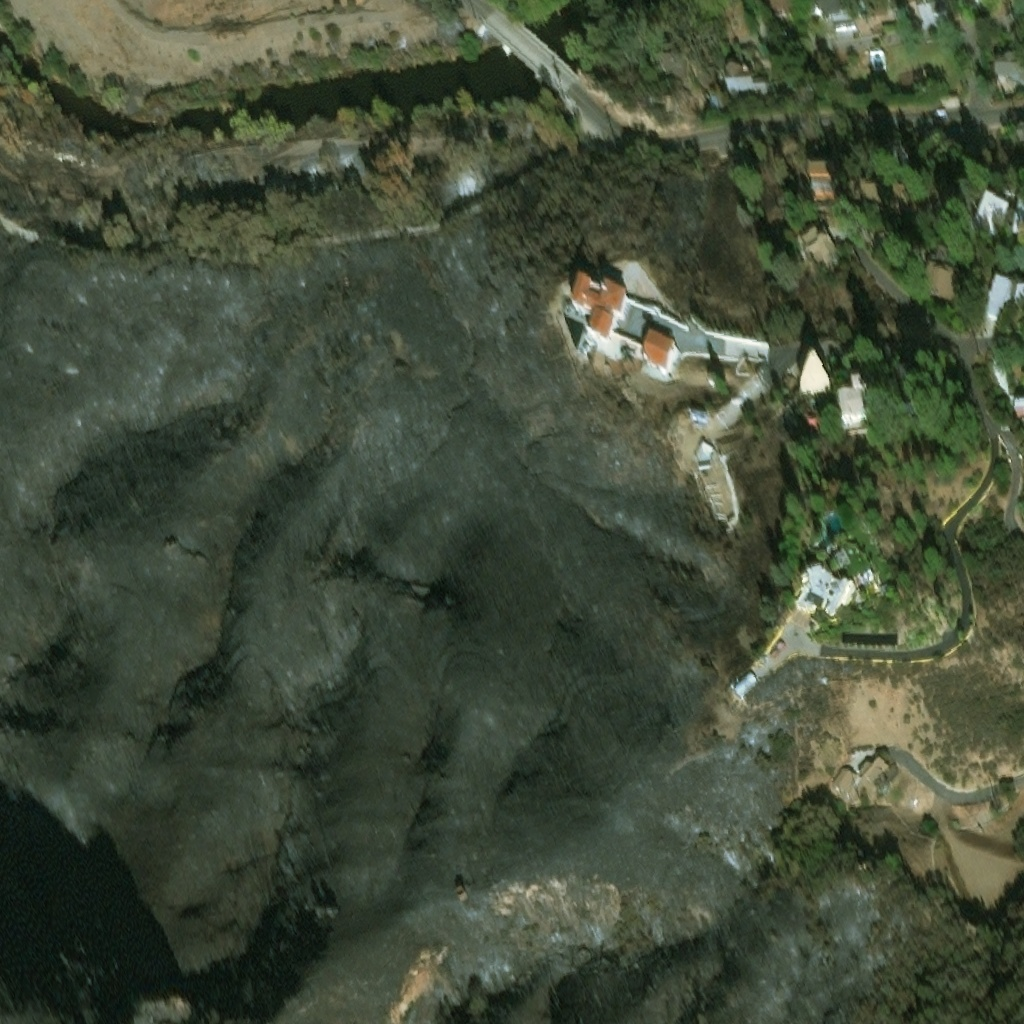0 no-damage: (797, 569, 855, 621), (985, 278, 1016, 331), (921, 261, 963, 300), (975, 198, 1014, 239), (585, 333, 645, 359), (860, 756, 898, 794), (802, 230, 841, 267), (841, 387, 876, 428), (574, 283, 612, 317), (800, 360, 834, 397), (724, 62, 768, 90), (643, 334, 677, 370), (850, 183, 889, 204), (590, 313, 618, 342), (604, 290, 632, 318), (901, 370, 918, 415), (733, 674, 760, 702), (994, 63, 1023, 86), (895, 63, 923, 85), (832, 766, 856, 791), (663, 56, 687, 81), (676, 90, 695, 116), (915, 0, 944, 17), (815, 0, 845, 15), (695, 437, 712, 463), (811, 166, 838, 182), (813, 182, 837, 199), (844, 749, 862, 767), (868, 46, 885, 63), (766, 0, 792, 11), (708, 90, 725, 104), (1013, 401, 1023, 419), (882, 587, 897, 599), (692, 410, 707, 420), (808, 416, 816, 425)
4 un-classified: (880, 136, 909, 162), (927, 192, 944, 207)
